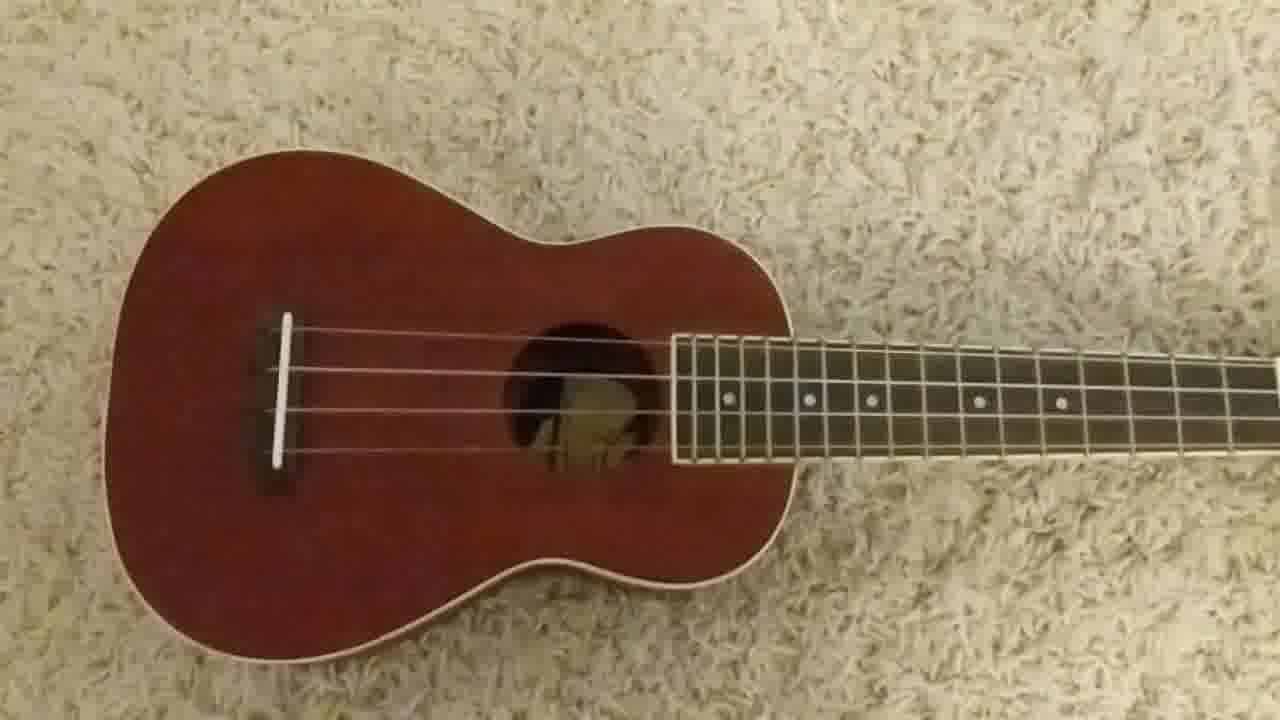Body: (105, 147, 807, 671)
Bridge: (248, 305, 307, 483)
